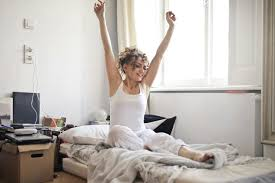bed-matress: (54, 126, 275, 183)
